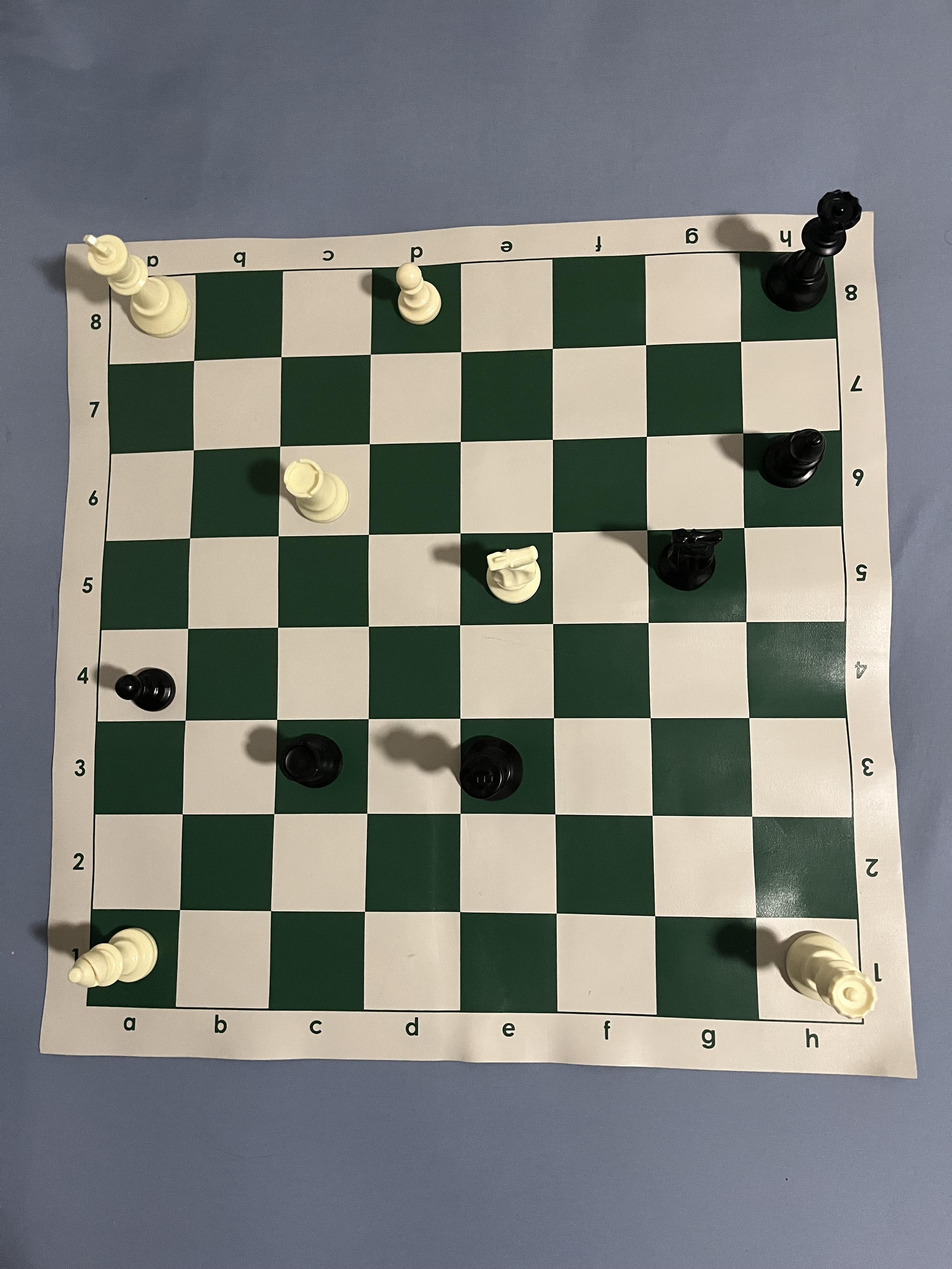black_bishop: (762, 427, 825, 489)
black_king: (459, 736, 524, 803)
black_knight: (656, 527, 724, 591)
black_pawn: (115, 667, 176, 712)
black_queen: (764, 189, 862, 313)
black_rook: (280, 734, 343, 789)
white_bishop: (68, 927, 159, 990)
white_king: (84, 234, 191, 338)
white_knight: (486, 545, 542, 604)
white_pawn: (395, 262, 443, 327)
white_queen: (783, 929, 878, 1020)
white_rook: (283, 459, 349, 523)
